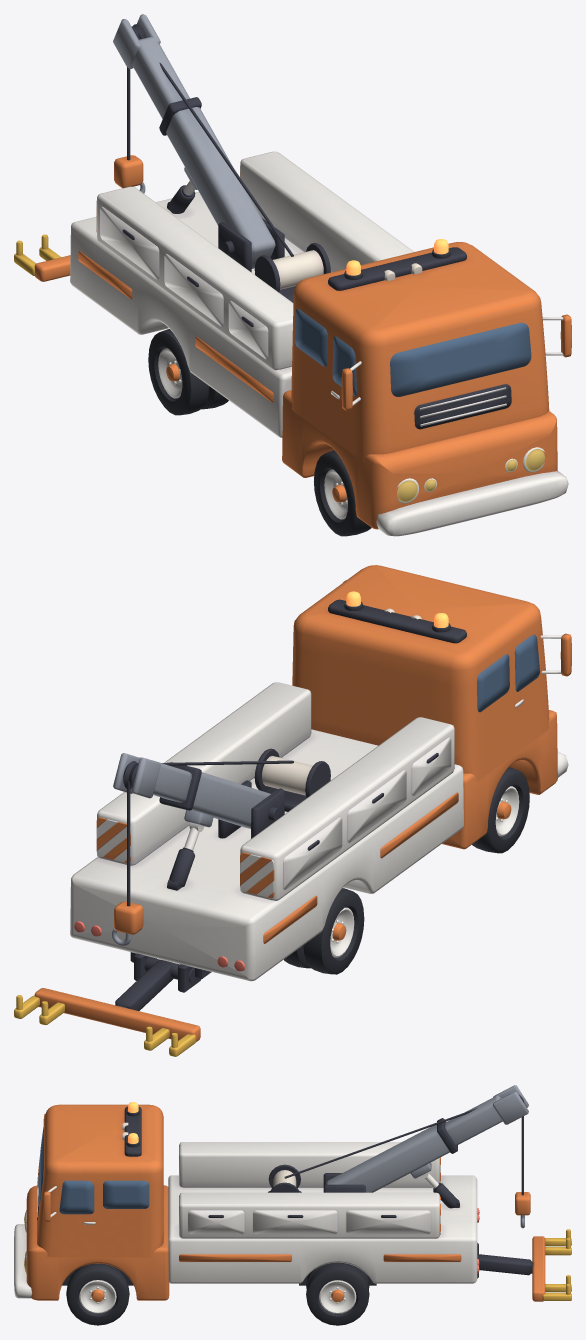
The model's file is tow-truck.glb.
The picture shows the model from 3 angles, top to bottom: view 1: azimuth 30°, elevation 25°; view 2: azimuth 150°, elevation 25°; view 3: azimuth 270°, elevation 25°; orthographic projection. The views are drawn at different scales.
Visible parts, largest first — view 1: tow-truck_body, tow-truck_boom, tow-truck_windows, tow-truck_wheel_rr, tow-truck_wheel_fr, tow-truck_underlift, tow-truck_hook, tow-truck_headlights; view 2: tow-truck_body, tow-truck_boom, tow-truck_underlift, tow-truck_wheel_rr, tow-truck_wheel_fr, tow-truck_windows, tow-truck_hook; view 3: tow-truck_body, tow-truck_boom, tow-truck_wheel_rl, tow-truck_wheel_fl, tow-truck_underlift, tow-truck_windows, tow-truck_hook.
Boxes of the visible parts, bbox=[...] form: tow-truck_body: bbox=[70, 151, 571, 536]; tow-truck_boom: bbox=[113, 14, 293, 268]; tow-truck_windows: bbox=[294, 308, 531, 396]; tow-truck_wheel_rr: bbox=[148, 329, 228, 415]; tow-truck_wheel_fr: bbox=[314, 450, 371, 536]; tow-truck_underlift: bbox=[14, 234, 70, 281]; tow-truck_hook: bbox=[114, 67, 145, 193]; tow-truck_headlights: bbox=[396, 447, 545, 503]; tow-truck_body: bbox=[70, 565, 571, 992]; tow-truck_boom: bbox=[113, 753, 293, 850]; tow-truck_underlift: bbox=[14, 957, 200, 1056]; tow-truck_wheel_rr: bbox=[284, 888, 364, 974]; tow-truck_wheel_fr: bbox=[472, 767, 529, 853]; tow-truck_windows: bbox=[477, 634, 539, 712]; tow-truck_hook: bbox=[111, 780, 143, 945]; tow-truck_body: bbox=[14, 1104, 478, 1300]; tow-truck_boom: bbox=[284, 1085, 528, 1192]; tow-truck_wheel_rl: bbox=[306, 1262, 369, 1325]; tow-truck_wheel_fl: bbox=[66, 1263, 129, 1325]; tow-truck_underlift: bbox=[477, 1229, 571, 1301]; tow-truck_windows: bbox=[40, 1126, 149, 1214]; tow-truck_hook: bbox=[515, 1116, 530, 1228].
Bounding box in the file's own units: 2.69 × 3.24 × 7.91.
Materials: 21 (4 with a texture image).
